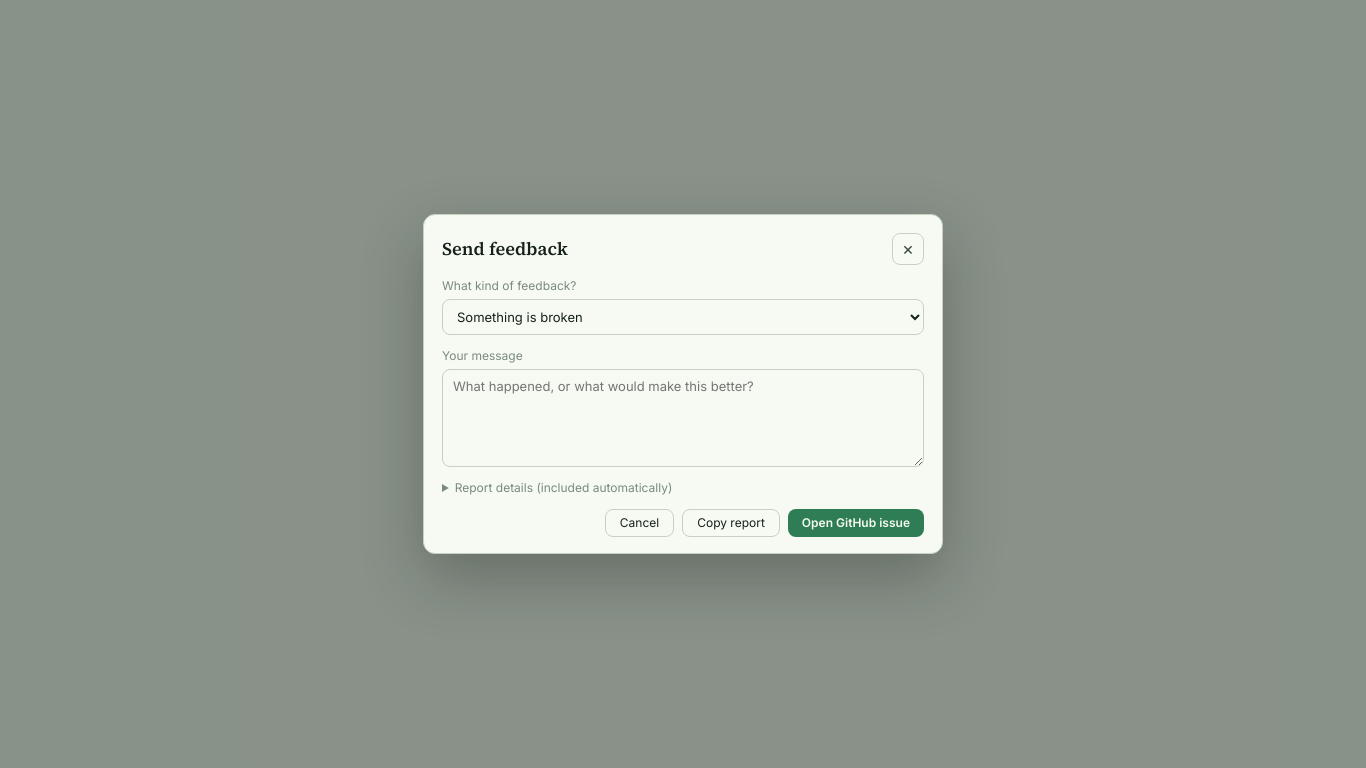
Scenario: FeedbackDialog › copies the report to the clipboard
Click the button "Copy report" at point(731, 523), box [682, 509, 780, 537]
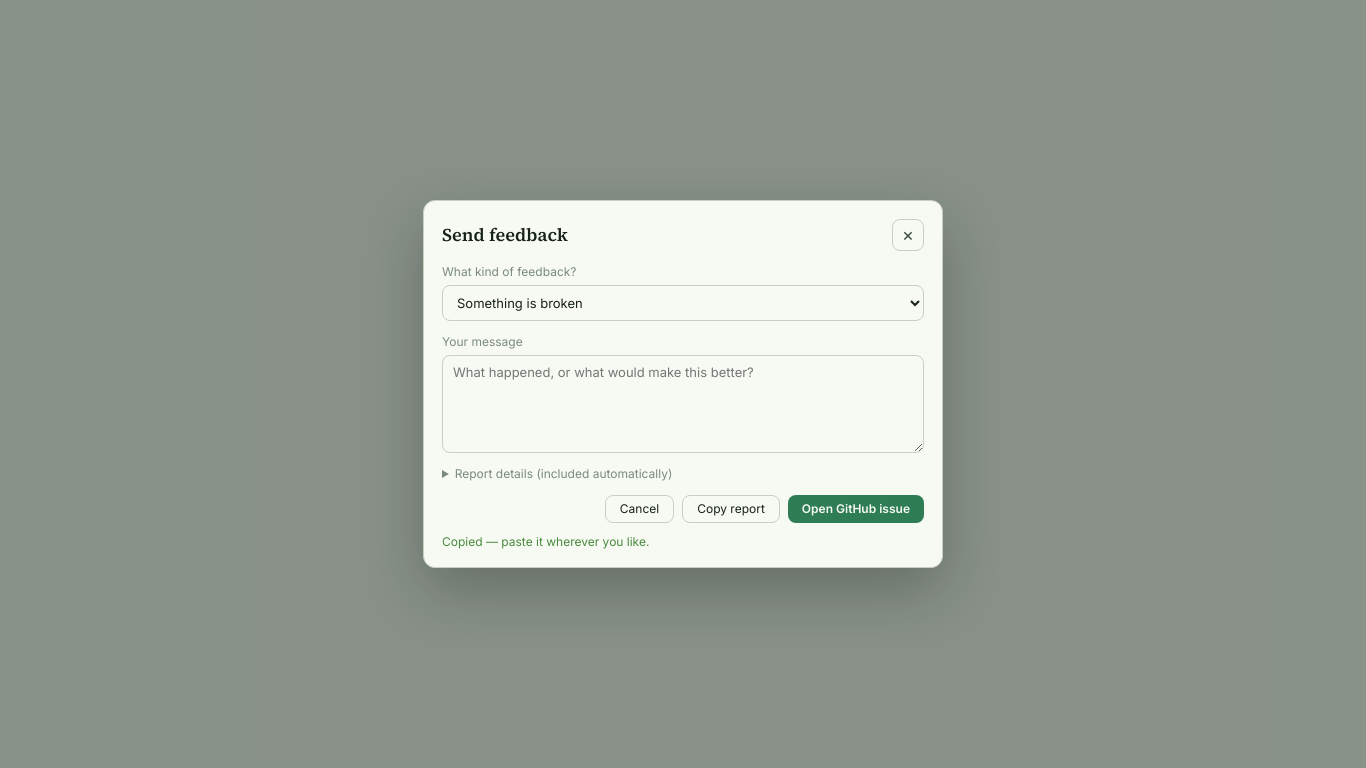
Expected: the message shows "Copied", [442, 534, 649, 549]
